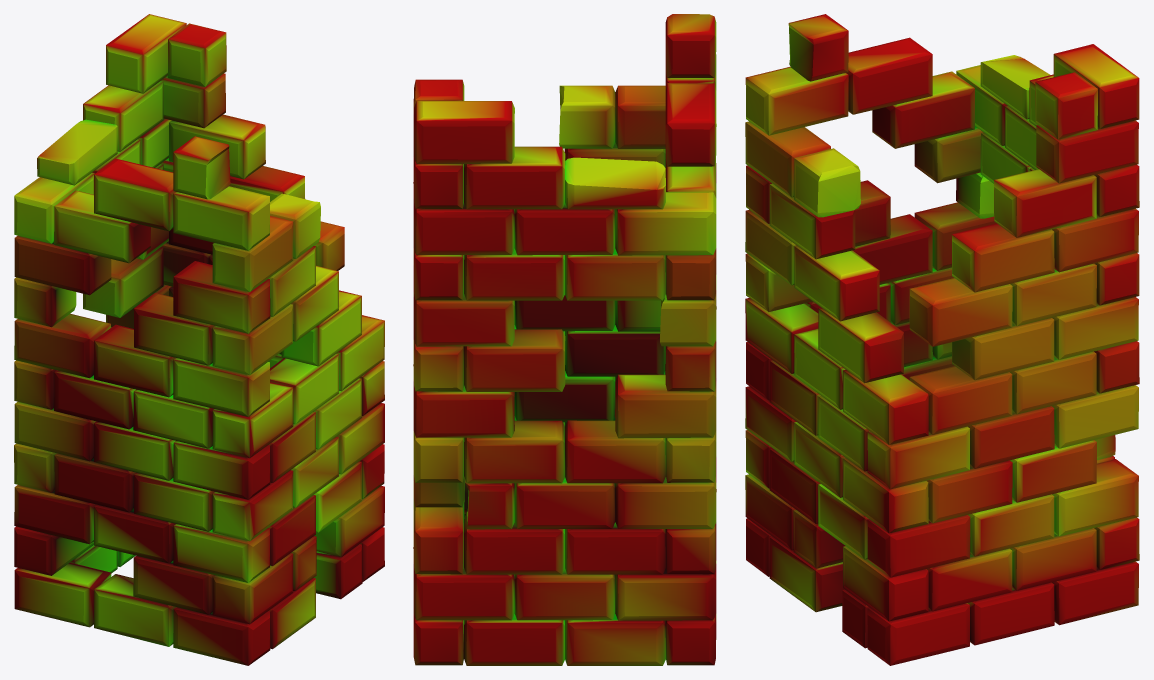
File: ruin_tower_model.obj
3 renders of one model, left to right at view 1: azimuth 30°, elevation 25°; view 2: azimuth 150°, elevation 25°; view 3: azimuth 270°, elevation 25°, orthographic. The views are drawn at different scales.
Parts seen in each view (by area): view 1: Tower; view 2: Tower; view 3: Tower.
Boxes of the visible parts, box(x1,y1,x2,y2) form: Tower: box(14, 14, 384, 665); Tower: box(413, 14, 716, 665); Tower: box(745, 14, 1139, 665).
Size of the model in its own units: 8.1 by 12.01 by 8.1.
